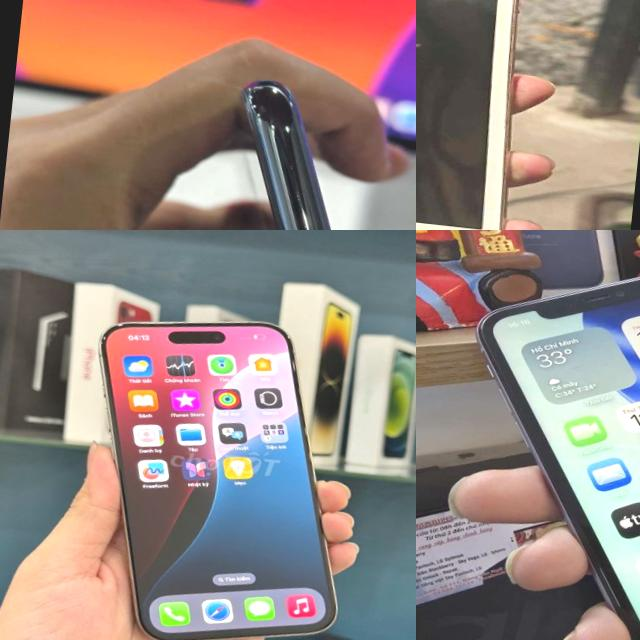gen_11: (440, 249, 640, 640), (195, 72, 416, 230)
gen_15: (58, 303, 375, 640)
gen_7_8: (416, 0, 547, 230)
